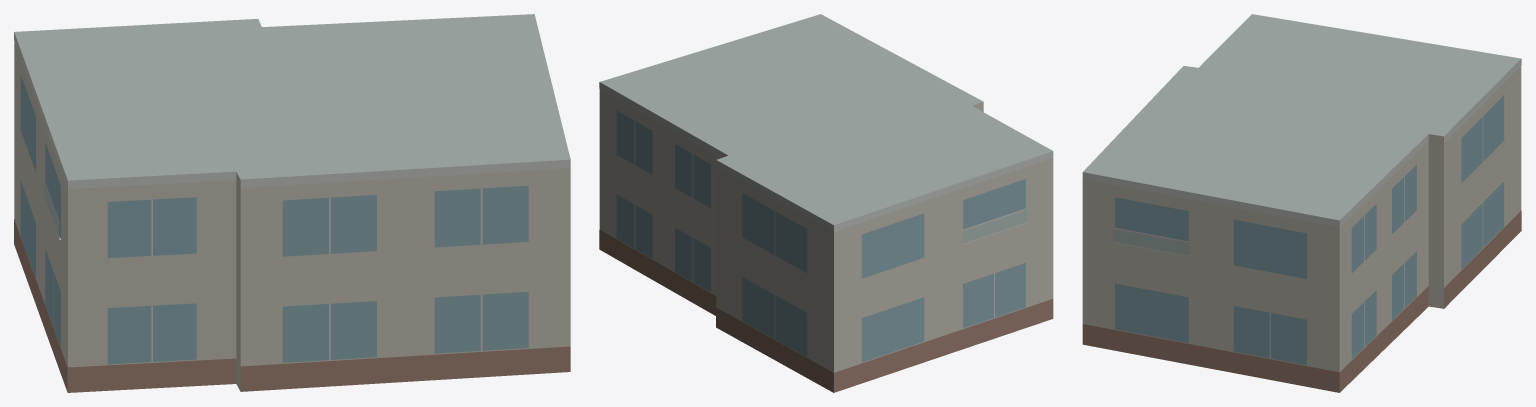
Rendered from survey-upis-32668829.glb.
3 renders of one model, left to right at view 1: azimuth 30°, elevation 25°; view 2: azimuth 150°, elevation 25°; view 3: azimuth 270°, elevation 25°, orthographic. The views are drawn at different scales.
Visible parts, largest first — view 1: survey-upis-32668829.tmp; view 2: survey-upis-32668829.tmp; view 3: survey-upis-32668829.tmp.
Boxes of the visible parts, bbox=[...] form: survey-upis-32668829.tmp: bbox=[14, 14, 570, 392]; survey-upis-32668829.tmp: bbox=[599, 14, 1053, 392]; survey-upis-32668829.tmp: bbox=[1082, 14, 1521, 392].
Bounding box in the file's own units: 15.67 × 6.1 × 14.08.
